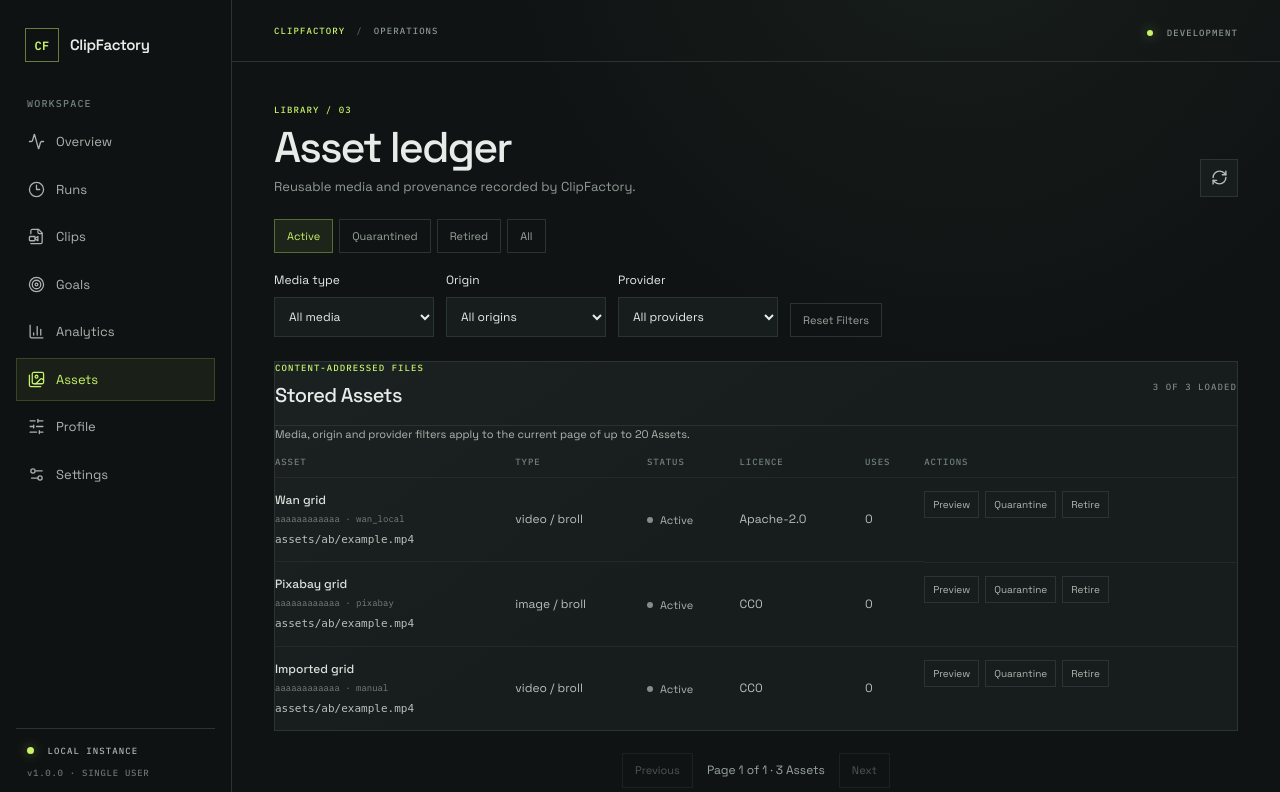
Scenario: ClipFactory operational frontend › CF-REQ-605 combines media, origin and provider filters and resets them
The image size is (1280, 792).
Expected: the text "Wan grid" is shown, [275, 492, 326, 508]
Select "Video" in the dropdown labelled "Media type": x=354, y=317 [274, 297, 434, 337]
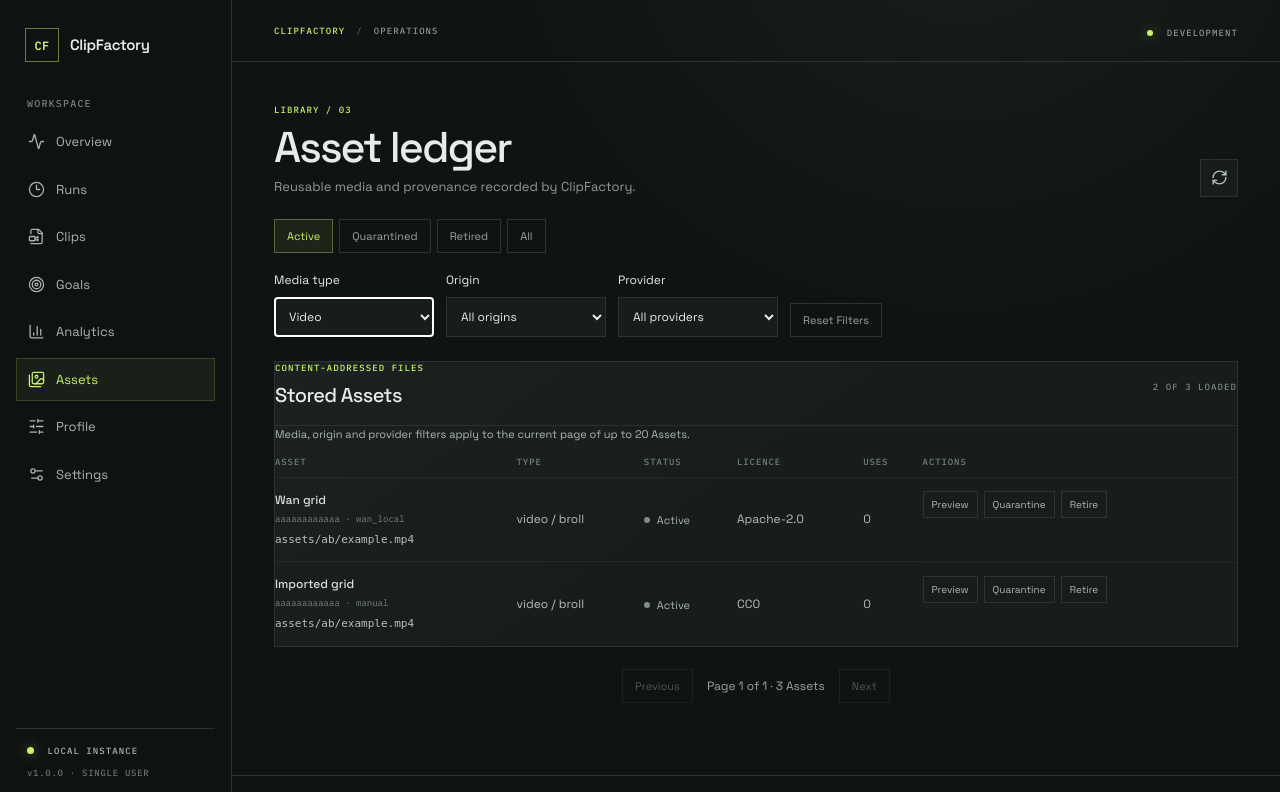
Expected: the text "Pixabay grid" is gone
Select "Generated" in the dropdown labelled "Origin": x=526, y=317 [446, 297, 606, 337]
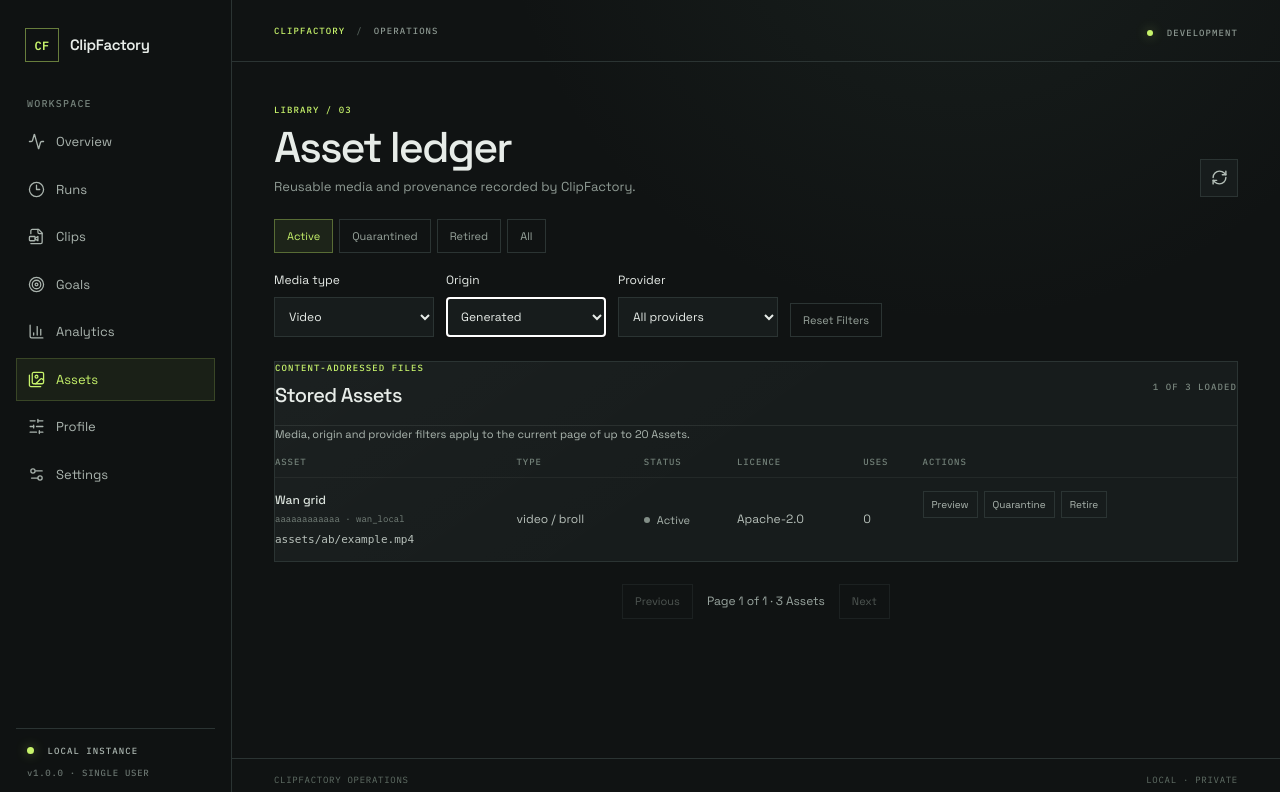
Expected: the text "Imported grid" is gone
Expected: the text "1 OF 3 LOADED" is shown, [1153, 381, 1237, 392]
Select "Pixabay" in the dropdown labelled "Provider": x=698, y=317 [618, 297, 778, 337]
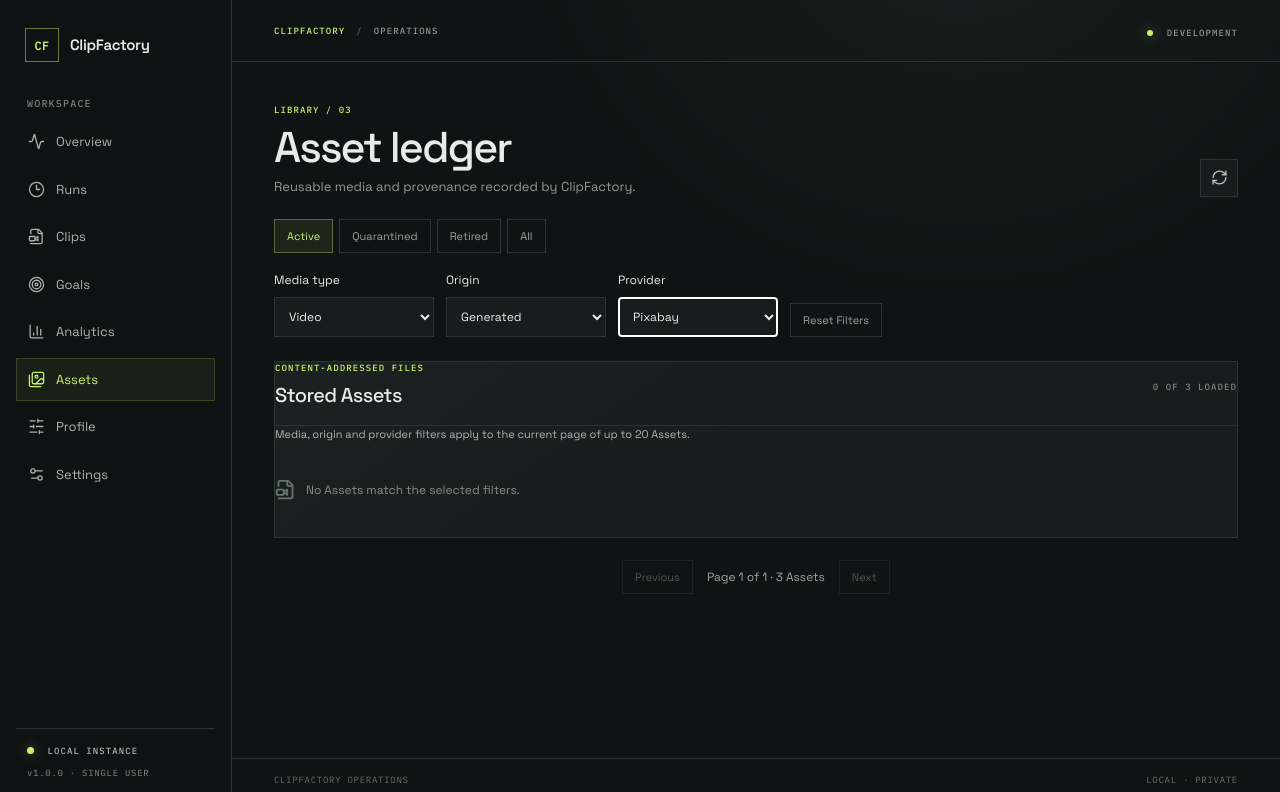
Expected: the text "No Assets match the selected filters." is shown, [306, 481, 520, 499]
Click the button "Reset filters": x=836, y=320 [790, 303, 882, 337]
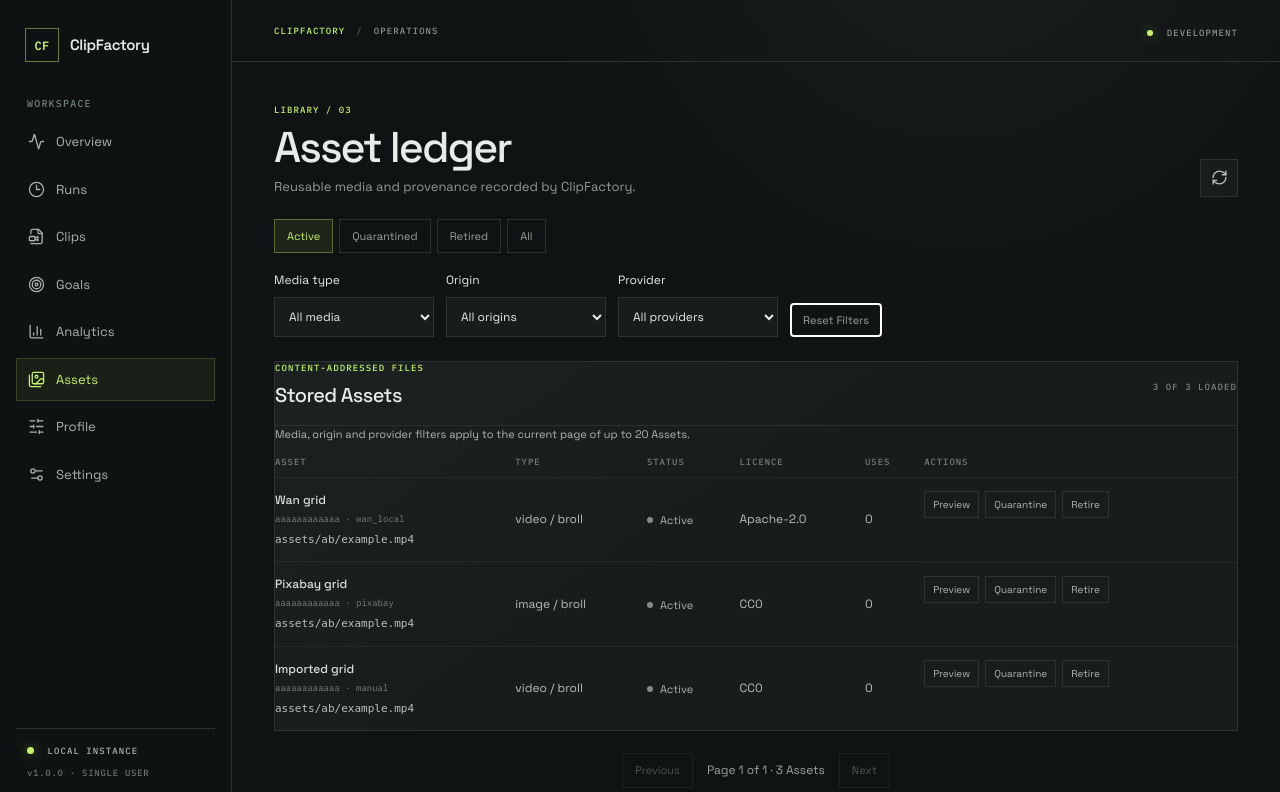
Expected: the text "3 OF 3 LOADED" is shown, [1153, 381, 1237, 392]
Select "Pixabay" in the dropdown labelled "Provider": x=698, y=317 [618, 297, 778, 337]
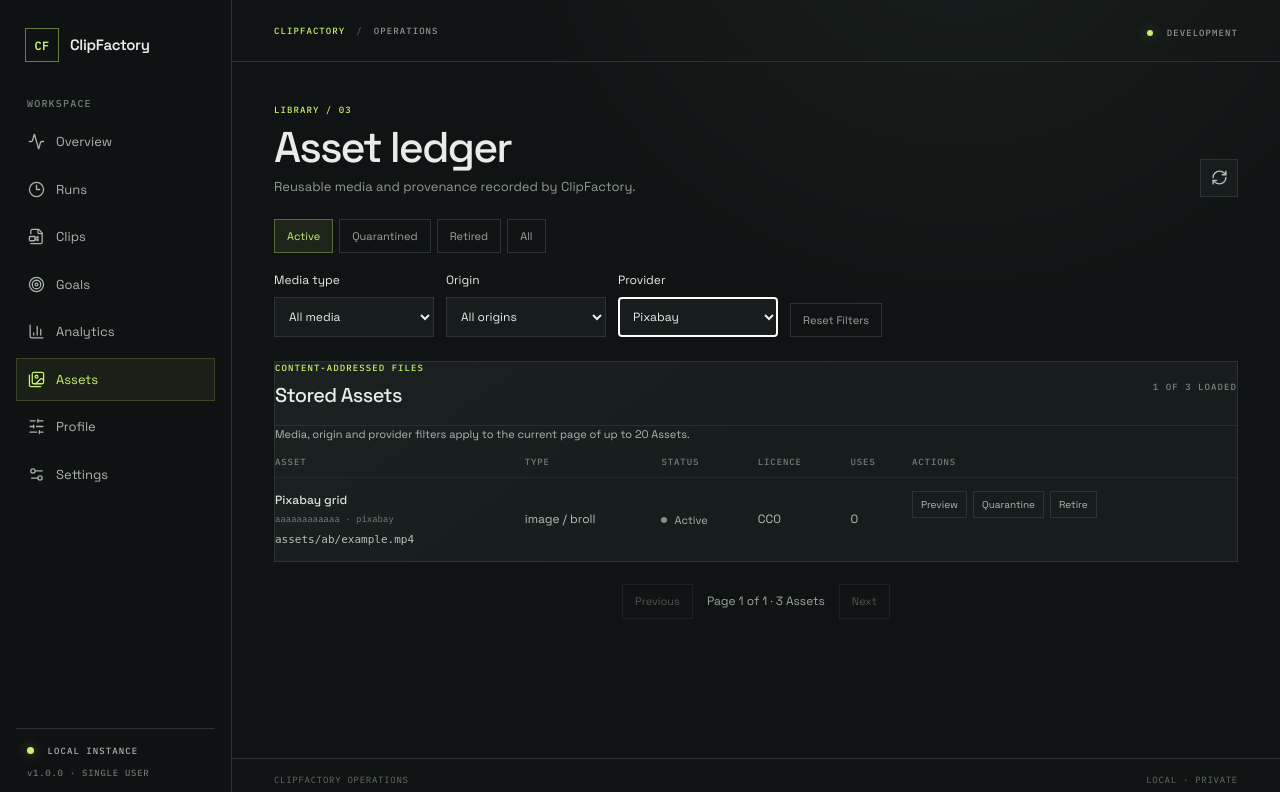
Expected: the text "Pixabay grid" is shown, [275, 492, 347, 508]
Expected: the text "Wan grid" is gone
